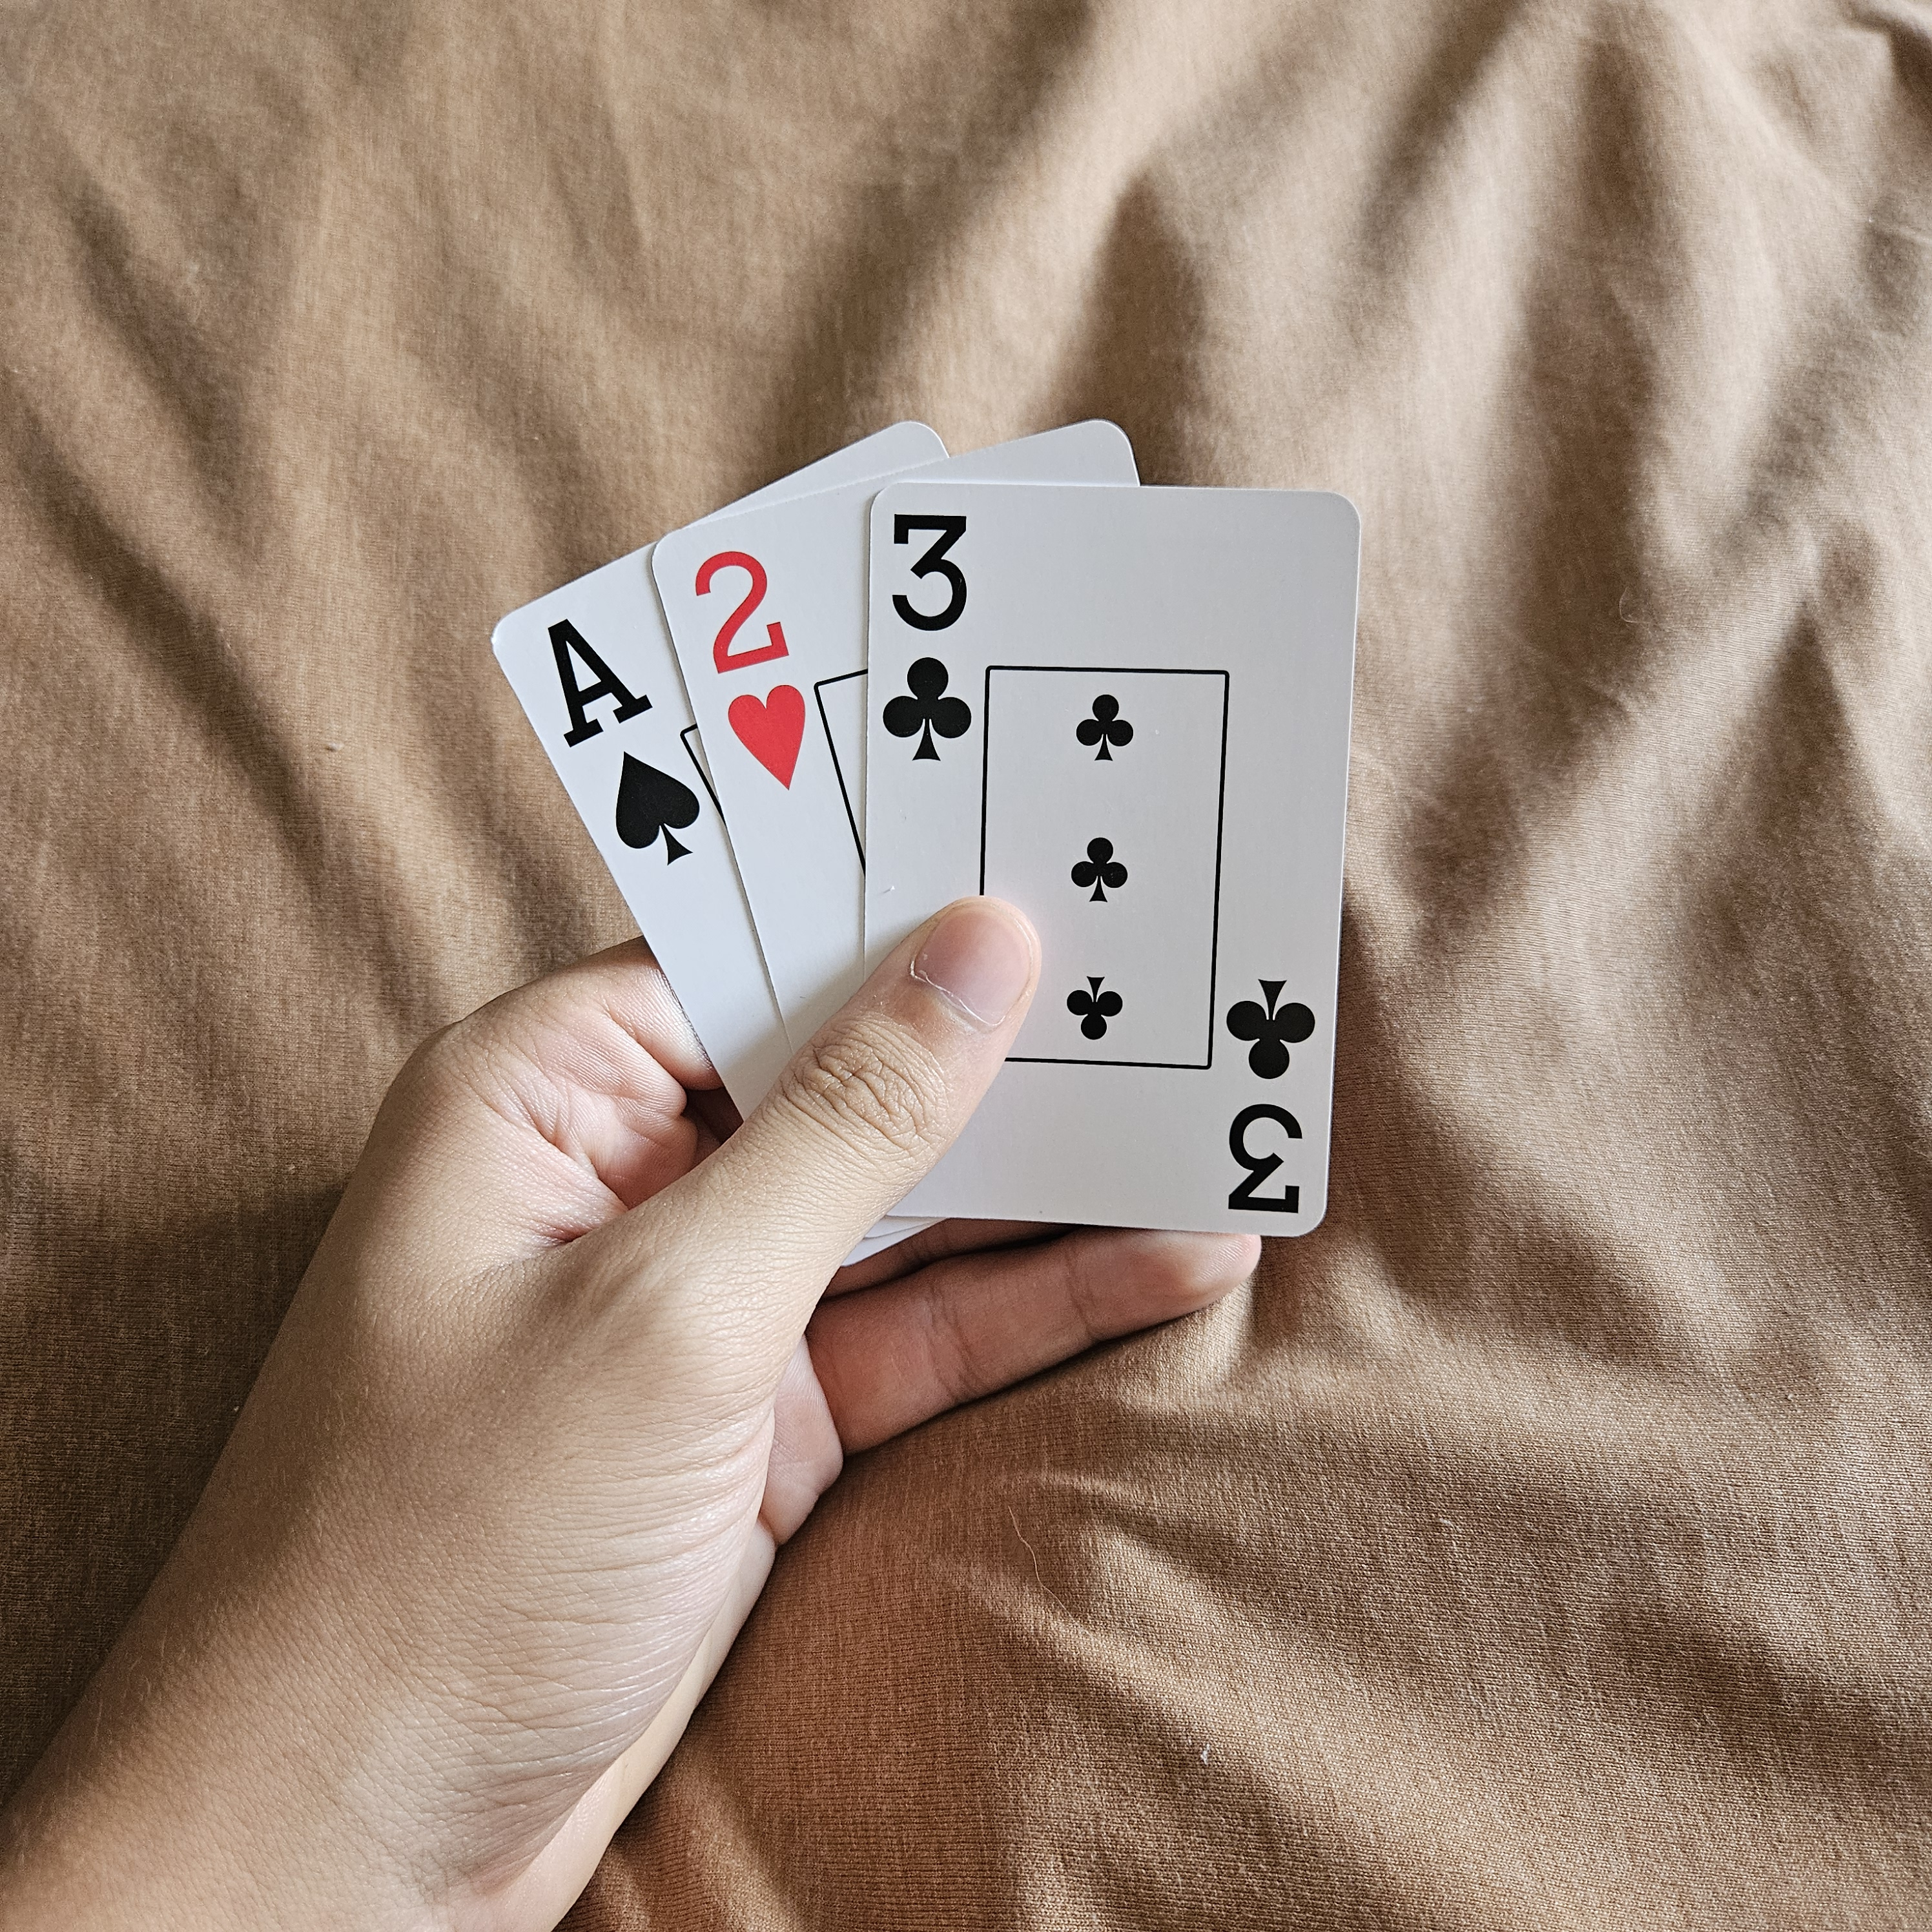2C: (688, 533, 833, 798)
3P: (869, 490, 996, 784), (1208, 961, 1325, 1230)
AE: (520, 596, 708, 869)
